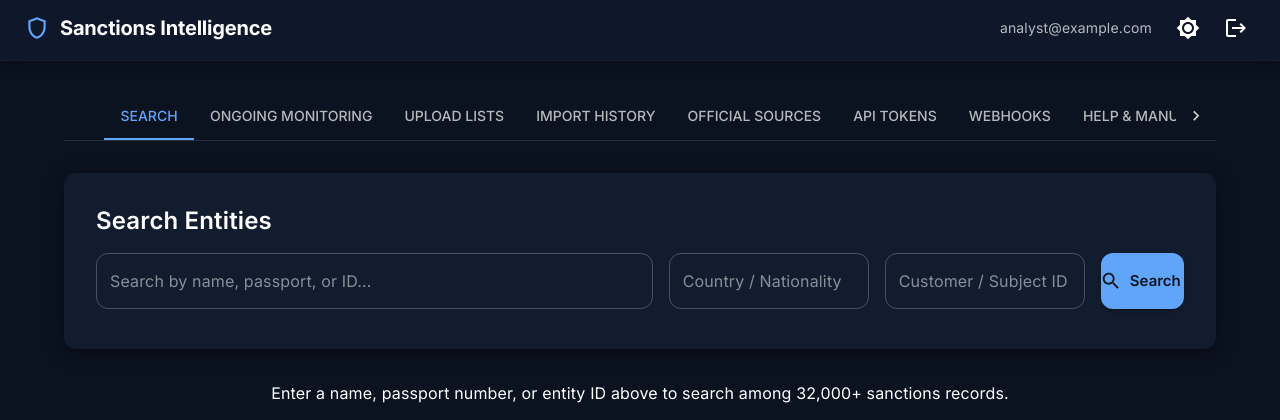
Scenario: App component navigation tabs › navigates to the Import History tab (issue #12)
Expected: the heading "Search Entities" is shown, [96, 206, 272, 235]
Click the tab "Import History": (596, 116) [520, 92, 672, 140]
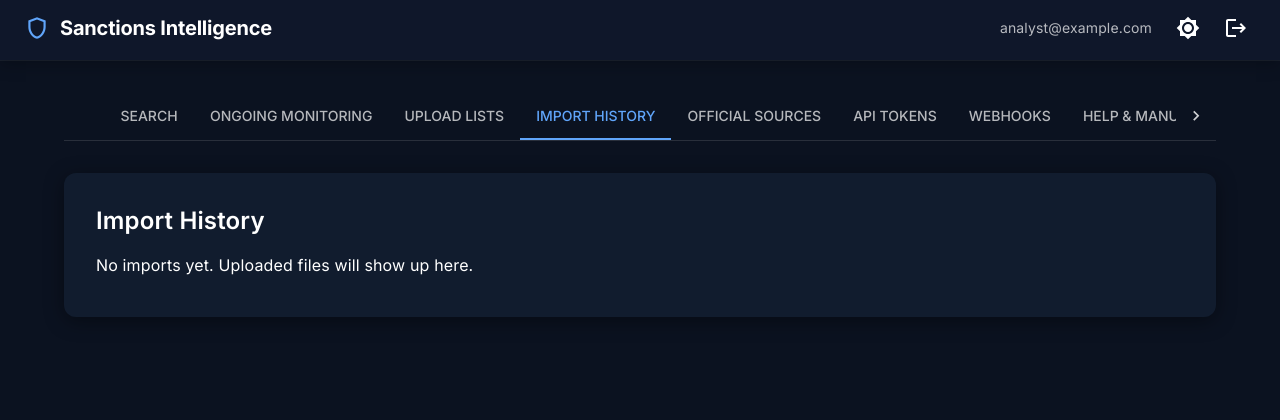
Expected: the text "No imports yet. Uploaded files will show up here." is shown, [96, 255, 473, 275]
